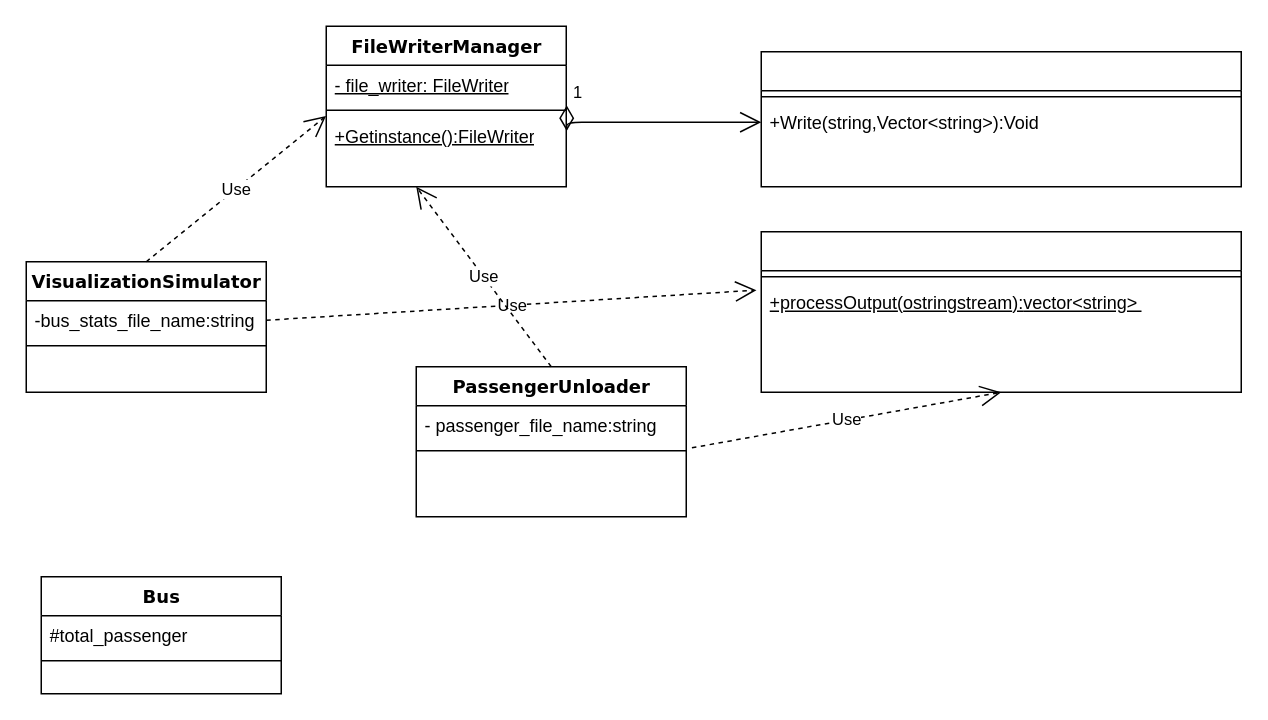
Some shapes in this 1268 by 720 pixel diagram are drawn without their labels. The shapes that lost their labels are listed below. From the top down, each one's box as (x1, y1, x2, y2) in pixels, then its label:
(760, 50, 1241, 187): FileWriter
(760, 230, 1241, 392): Util
